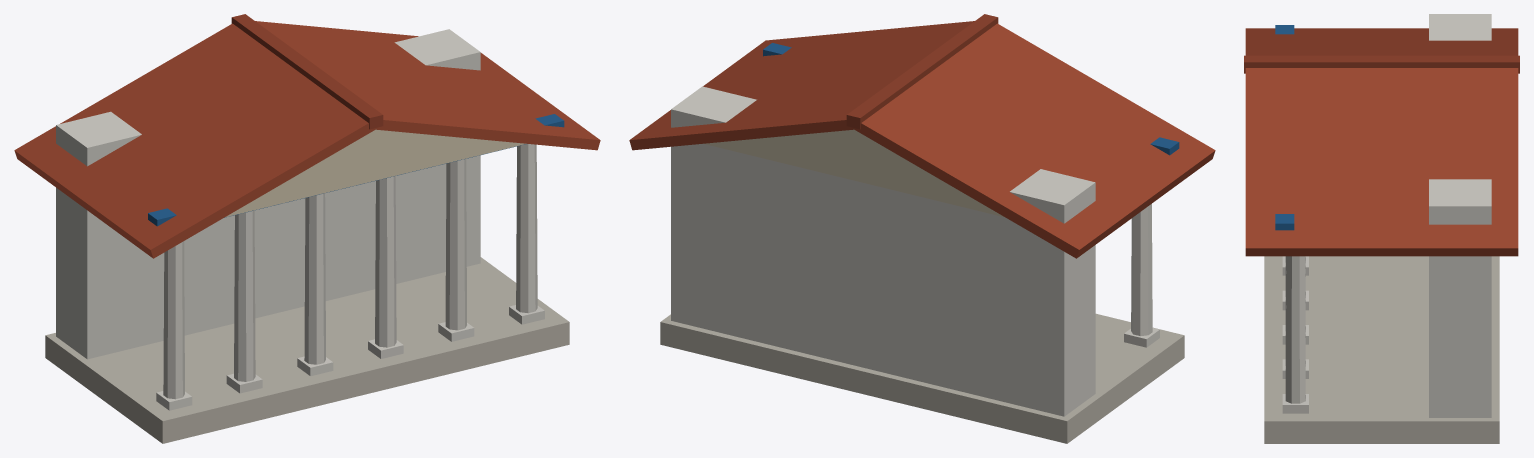
The model's file is centaur_house_b_broken.glb.
3 views of the same model, side by side, from view 1: azimuth 30°, elevation 25°; view 2: azimuth 150°, elevation 25°; view 3: azimuth 270°, elevation 25° (orthographic).
Visible parts, largest first — view 1: centaur_house_b_piece3, centaur_house_b_piece5, centaur_house_b_piece12, centaur_house_b_piece1, centaur_house_b_piece2, centaur_house_b_piece6, centaur_house_b_piece8, centaur_house_b_piece9, centaur_house_b_piece7, centaur_house_b_piece4, centaur_house_b_piece0; view 2: centaur_house_b_piece3, centaur_house_b_piece5, centaur_house_b_piece2, centaur_house_b_piece10, centaur_house_b_piece4, centaur_house_b_piece7, centaur_house_b_piece6, centaur_house_b_piece11, centaur_house_b_piece8, centaur_house_b_piece12, centaur_house_b_piece9; view 3: centaur_house_b_piece12, centaur_house_b_piece7, centaur_house_b_piece4, centaur_house_b_piece5, centaur_house_b_piece8, centaur_house_b_piece2, centaur_house_b_piece1, centaur_house_b_piece3, centaur_house_b_piece9, centaur_house_b_piece6, centaur_house_b_piece0, centaur_house_b_piece10.
Part boxes in pixels (box(x1,y1,x2,y2)): centaur_house_b_piece3: box(14, 90, 195, 438); centaur_house_b_piece5: box(117, 23, 399, 212); centaur_house_b_piece12: box(395, 53, 569, 378); centaur_house_b_piece1: box(158, 174, 441, 397); centaur_house_b_piece2: box(217, 185, 441, 338); centaur_house_b_piece6: box(162, 119, 308, 396); centaur_house_b_piece8: box(350, 63, 561, 246); centaur_house_b_piece9: box(139, 290, 353, 443); centaur_house_b_piece7: box(367, 29, 600, 162); centaur_house_b_piece4: box(215, 14, 497, 208); centaur_house_b_piece0: box(326, 181, 396, 344); centaur_house_b_piece3: box(928, 140, 1215, 443); centaur_house_b_piece5: box(847, 14, 1072, 255); centaur_house_b_piece2: box(660, 156, 829, 384); centaur_house_b_piece10: box(785, 233, 1002, 427); centaur_house_b_piece4: box(728, 52, 961, 334); centaur_house_b_piece7: box(671, 37, 816, 196); centaur_house_b_piece6: box(1012, 67, 1203, 287); centaur_house_b_piece11: box(664, 136, 855, 271); centaur_house_b_piece8: box(805, 21, 966, 86); centaur_house_b_piece12: box(629, 78, 723, 210); centaur_house_b_piece9: box(1095, 313, 1184, 363); centaur_house_b_piece12: box(1264, 210, 1518, 443); centaur_house_b_piece7: box(1245, 167, 1518, 256); centaur_house_b_piece4: box(1296, 55, 1519, 184); centaur_house_b_piece5: box(1244, 43, 1518, 110); centaur_house_b_piece8: box(1245, 82, 1415, 271); centaur_house_b_piece2: box(1350, 289, 1499, 443); centaur_house_b_piece1: box(1264, 256, 1497, 358); centaur_house_b_piece3: box(1245, 14, 1518, 259); centaur_house_b_piece9: box(1264, 256, 1428, 313); centaur_house_b_piece6: box(1245, 29, 1415, 49); centaur_house_b_piece0: box(1307, 323, 1397, 368); centaur_house_b_piece10: box(1491, 259, 1499, 347).
Size of the model in its own units: 3.32 by 2.01 by 1.76.
